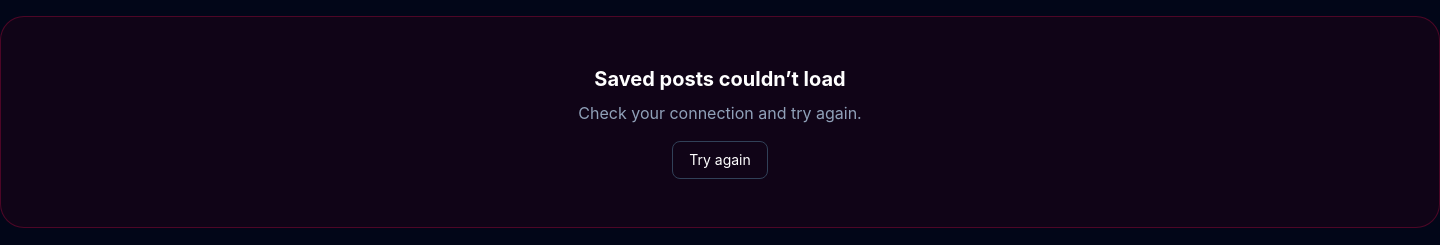
Test: SavedPosts › shows a retry action after loading errors and recovers on retry
Click the button "Try again".
click(720, 160)  # box [672,141,768,179]
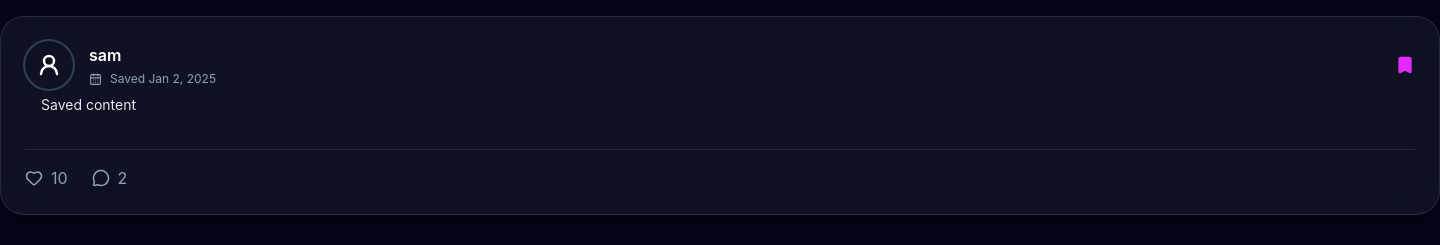
Expected: the text "Saved content" is shown, [41,96,136,113]
